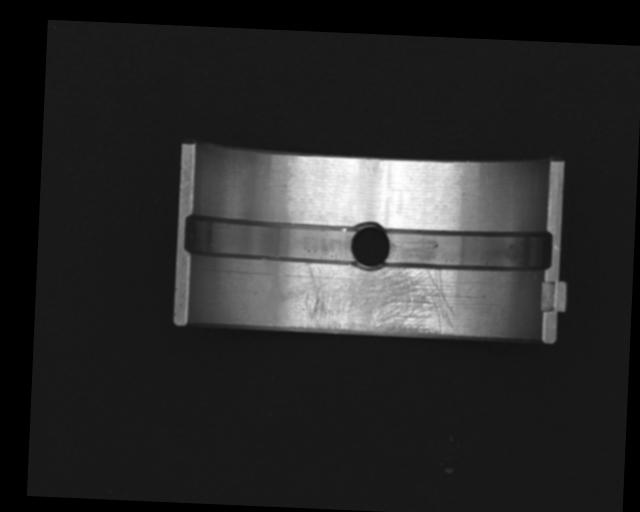gap: (184, 215, 357, 266), (384, 227, 554, 270)
hole: (350, 219, 389, 271)
scratch: (289, 261, 458, 336)
